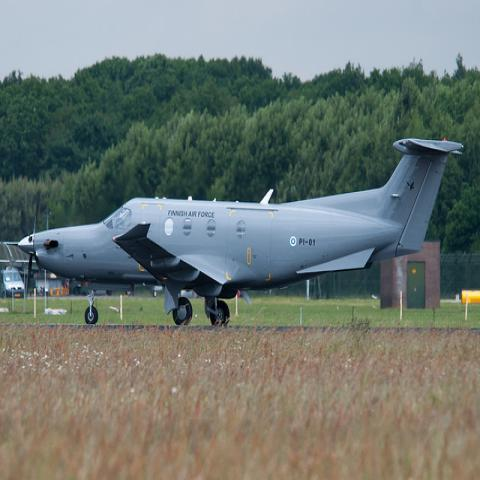car: (0, 270, 25, 299)
